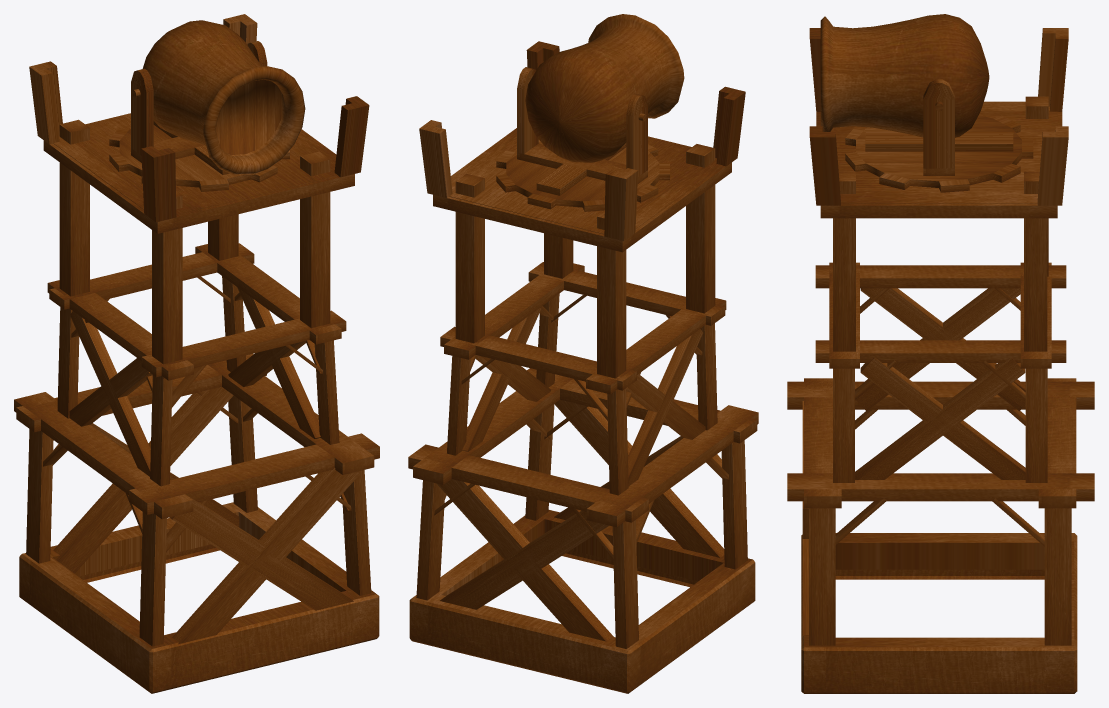
Rendered from Kanon.fbx.
3 renders of one model, left to right at view 1: azimuth 30°, elevation 25°; view 2: azimuth 150°, elevation 25°; view 3: azimuth 270°, elevation 25°, orthographic. The views are drawn at different scales.
Visible parts, largest first — view 1: tower_basic, Kanon, Houder, Tandwiel; view 2: tower_basic, Kanon, Houder, Tandwiel; view 3: tower_basic, Kanon, Tandwiel, Houder.
Boxes of the visible parts, x1,y1,x2,y2 form: tower_basic: [14, 14, 379, 693]; Kanon: [142, 20, 305, 174]; Houder: [131, 41, 267, 174]; Tandwiel: [109, 125, 289, 191]; tower_basic: [408, 41, 758, 693]; Kanon: [525, 14, 684, 162]; Houder: [517, 67, 647, 195]; Tandwiel: [496, 139, 669, 211]; tower_basic: [787, 28, 1094, 693]; Kanon: [820, 14, 989, 137]; Tandwiel: [845, 115, 1033, 192]; Houder: [865, 79, 1013, 175].
Size of the model in its own units: 340 by 828 by 374.
Materials: 1 (1 with a texture image).
